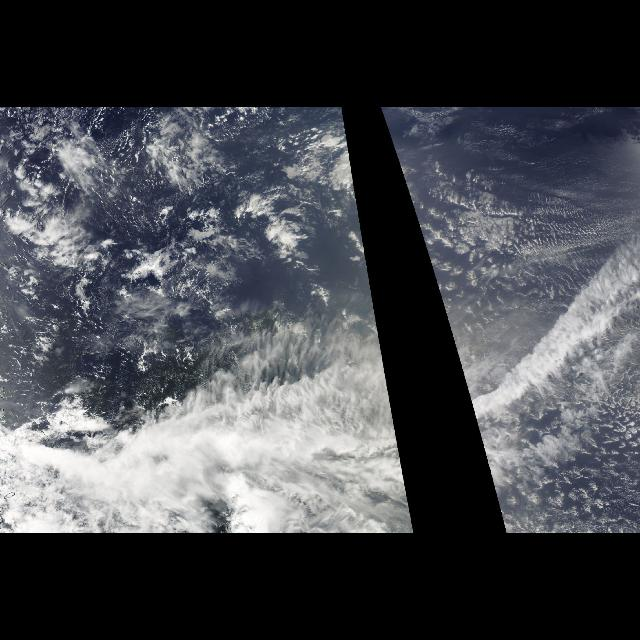Gravel: (5, 107, 206, 370), (533, 371, 639, 531)
Sugar: (392, 108, 640, 268)
